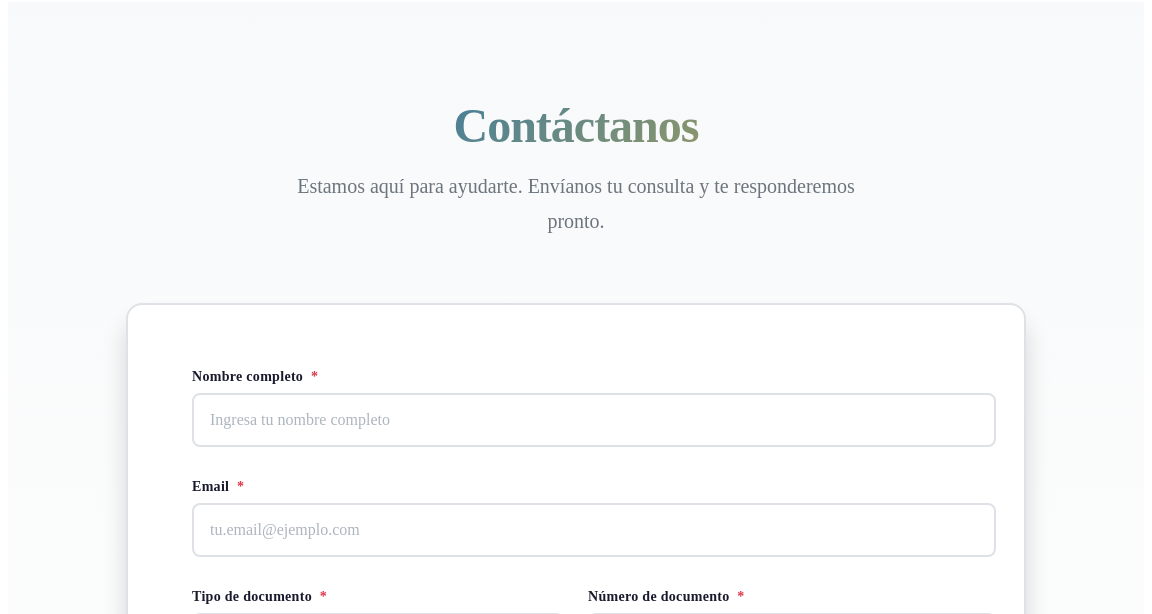
Contact Form › debe limpiar el formulario cuando se hace clic en el botón Limpiar
The width and height of the screenshot is (1152, 614).
In the field labelled "Nombre completo *": [594, 420] box [192,393,996,447], type "Juan Pérez"
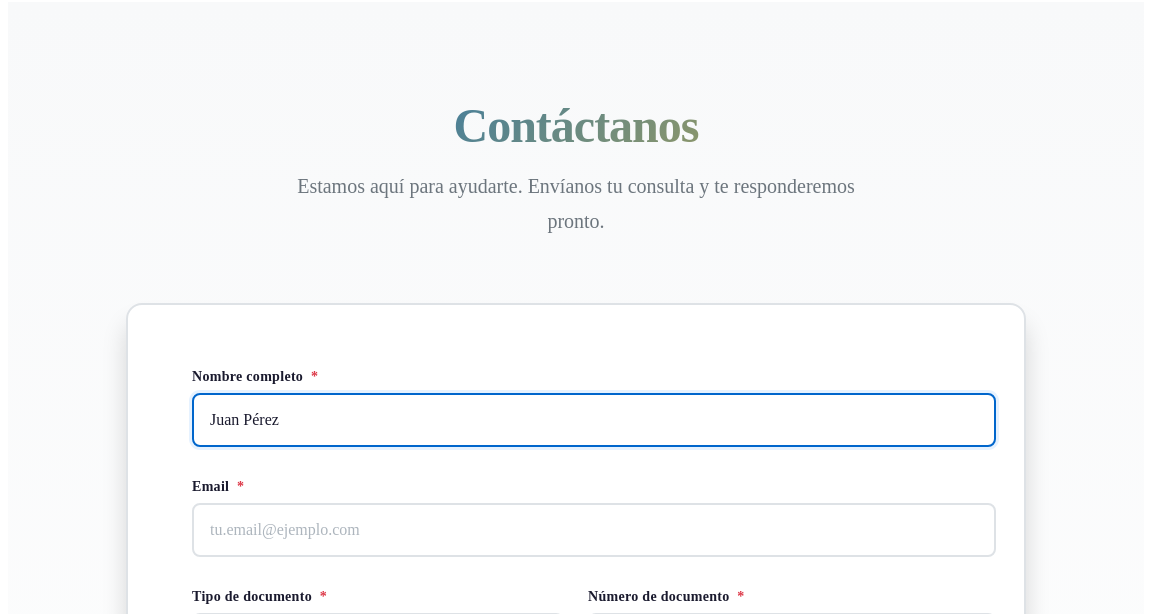
In the field labelled "Email *": [594, 530] box [192,503,996,557], type "juan@example.com"
(page scrolled)
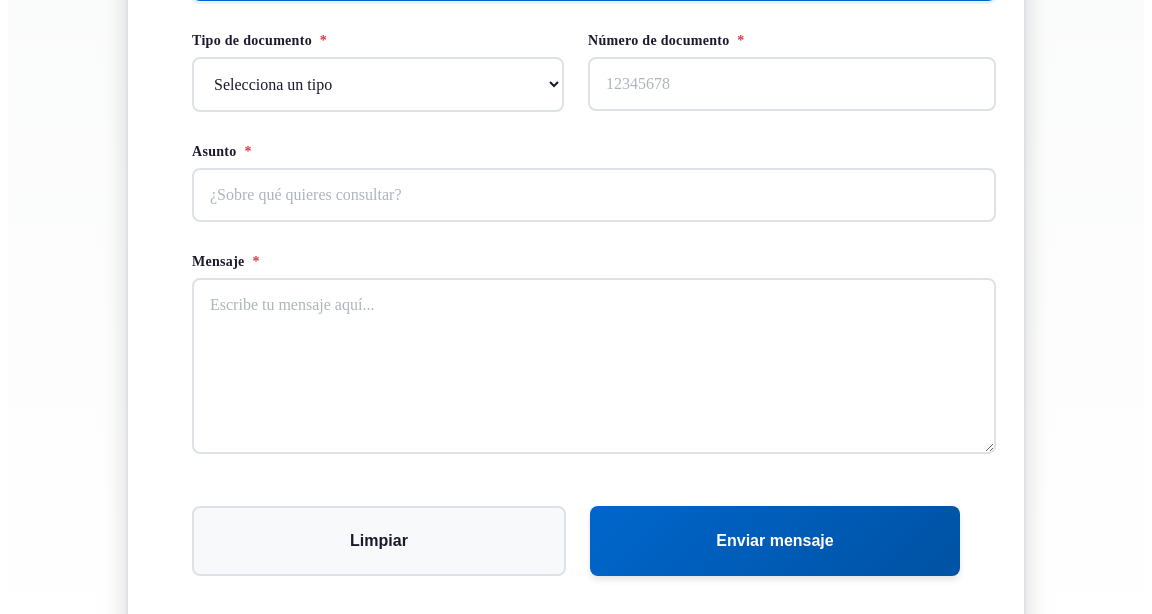
Click the button "Limpiar": [379, 541] box [192,506,566,576]
(page scrolled)
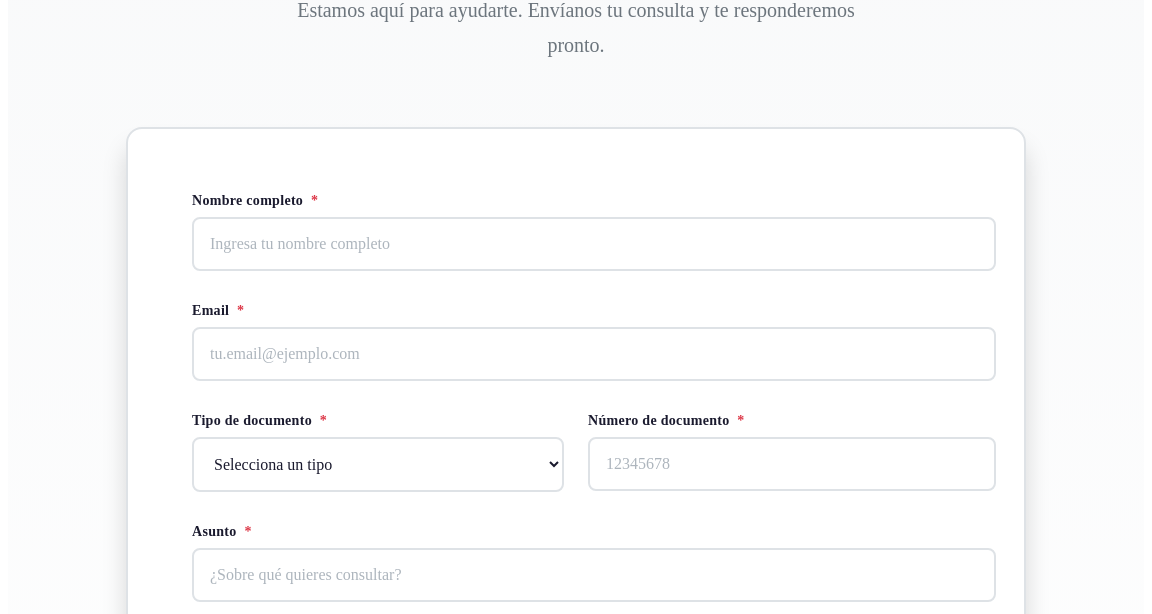
Result: the field labelled "Nombre completo *" is empty at [192,217,996,271]
Result: the field labelled "Email *" is empty at [192,327,996,381]
